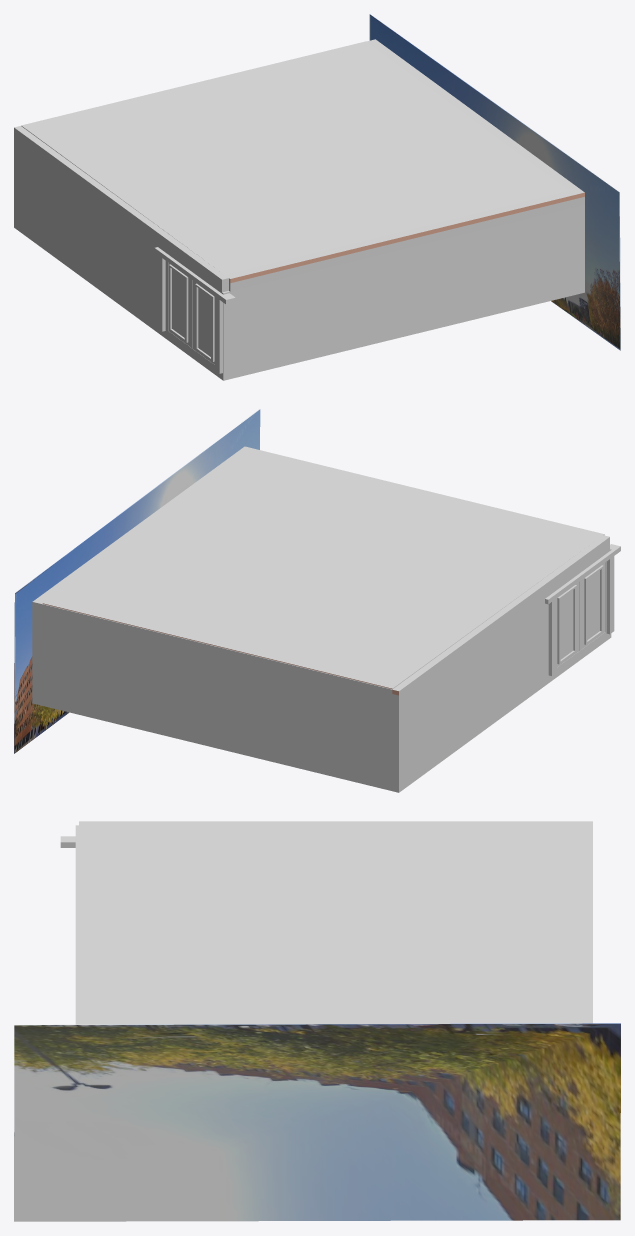
The model's file is museo.glb.
The picture shows the model from 3 angles, top to bottom: view 1: azimuth 30°, elevation 25°; view 2: azimuth 150°, elevation 25°; view 3: azimuth 270°, elevation 25°; orthographic projection. The views are drawn at different scales.
Visible parts, largest first — view 1: Cube.006, Cube.007, Cube.002, Cube.001, Cube.005, Cube.003, Cube.004; view 2: Cube.006, Cube.007, Cube.001, Cube.002, Cube.003, Cube.004, Cube.005; view 3: Cube.007, Cube.006.
Boxes of the visible parts, bbox=[...] form: Cube.006: bbox=[14, 39, 584, 380]; Cube.007: bbox=[369, 14, 620, 350]; Cube.002: bbox=[168, 263, 192, 347]; Cube.001: bbox=[192, 280, 215, 364]; Cube.005: bbox=[154, 247, 235, 304]; Cube.003: bbox=[215, 295, 222, 373]; Cube.004: bbox=[158, 253, 165, 331]; Cube.006: bbox=[32, 446, 611, 792]; Cube.007: bbox=[14, 409, 260, 753]; Cube.001: bbox=[579, 563, 605, 650]; Cube.002: bbox=[556, 582, 579, 667]; Cube.003: bbox=[606, 554, 614, 634]; Cube.004: bbox=[548, 596, 556, 675]; Cube.005: bbox=[545, 544, 620, 604]; Cube.007: bbox=[14, 1023, 620, 1221]; Cube.006: bbox=[75, 821, 592, 1024].
Bounding box in the file's own units: 672 × 272 × 761.
Materials: 4 (1 with a texture image).
